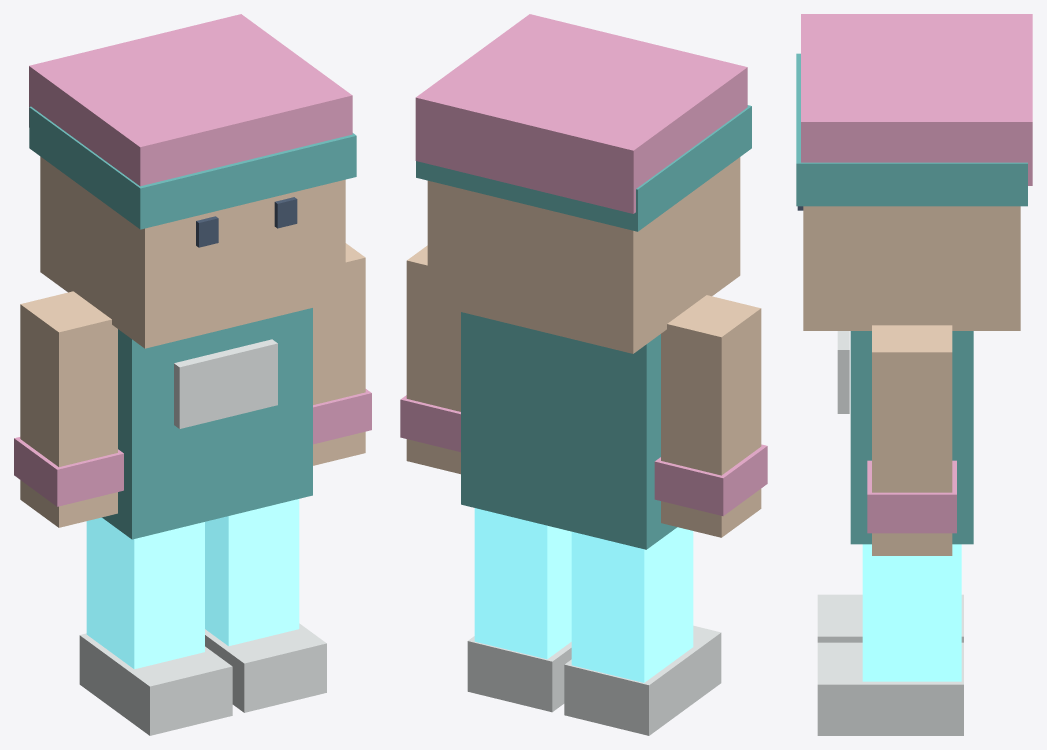
The model's file is weirdo_2_quantum_jumping_jack.glb.
3 views of the same model, side by side, from view 1: azimuth 30°, elevation 25°; view 2: azimuth 150°, elevation 25°; view 3: azimuth 270°, elevation 25° (orthographic). The views are drawn at different scales.
Visible parts, largest first — view 1: Hair, Head, RootBody, Arm_L, Leg_L, PrimeHeadband, Leg_R, Shoe_L, Arm_R, PrimeCounter, Shoe_R, Wristband_L (+3 smaller); view 2: Hair, RootBody, Head, Arm_L, Leg_L, Leg_R, PrimeHeadband, Shoe_L, Arm_R, Shoe_R, Wristband_L, Wristband_R; view 3: Hair, Head, Arm_R, Leg_R, PrimeHeadband, Shoe_R, RootBody, Wristband_R, Shoe_L, PrimeCounter.
Part boxes in pixels (box(x1,y1,x2,y2)): Hair: box(29, 14, 352, 186); Head: box(40, 156, 345, 348); RootBody: box(102, 308, 312, 539); Arm_L: box(20, 291, 117, 527); Leg_L: box(86, 517, 204, 669); PrimeHeadband: box(29, 106, 356, 229); Leg_R: box(205, 499, 299, 646); Shoe_L: box(79, 633, 232, 735); Arm_R: box(313, 243, 365, 465); PrimeCounter: box(174, 339, 277, 428); Shoe_R: box(205, 623, 326, 712); Wristband_L: box(14, 437, 123, 506); Hair: box(415, 14, 747, 213); RootBody: box(461, 312, 677, 549); Head: box(427, 157, 740, 353); Arm_L: box(661, 295, 761, 537); Leg_L: box(571, 527, 693, 682); Leg_R: box(474, 508, 571, 659); PrimeHeadband: box(416, 105, 751, 231); Shoe_L: box(564, 625, 721, 735); Arm_R: box(406, 245, 460, 474); Shoe_R: box(467, 636, 571, 712); Wristband_L: box(654, 444, 767, 515); Wristband_R: box(400, 395, 460, 452); Hair: box(801, 14, 1032, 185); Head: box(803, 206, 1020, 330); Arm_R: box(872, 325, 952, 555); Leg_R: box(862, 544, 961, 681); PrimeHeadband: box(796, 53, 1027, 206); Shoe_R: box(817, 642, 963, 735); RootBody: box(850, 331, 973, 544); Wristband_R: box(867, 460, 956, 533); Shoe_L: box(817, 594, 963, 642); PrimeCounter: box(837, 331, 849, 413).
Size of the model in its own units: 1.6 by 2.91 by 1.
